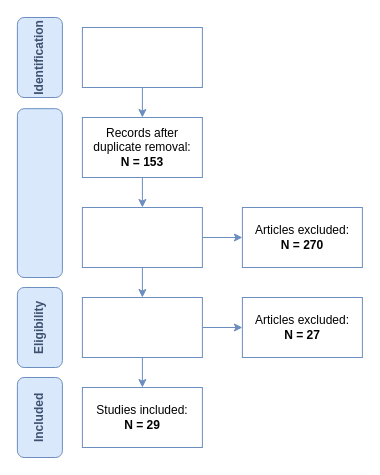
Image size: 380x475. Some labels were removed from this diagram. The shapes that lost their labels are listed below. From the top down, each one's centre as x and y in pixels, then its label:
pixel 141 57: Records identified and titles screened: N = 410
pixel 39 193: Screening
pixel 141 237: Abstract screened: N = 135
pixel 141 327: Full-text screened: N = 56
